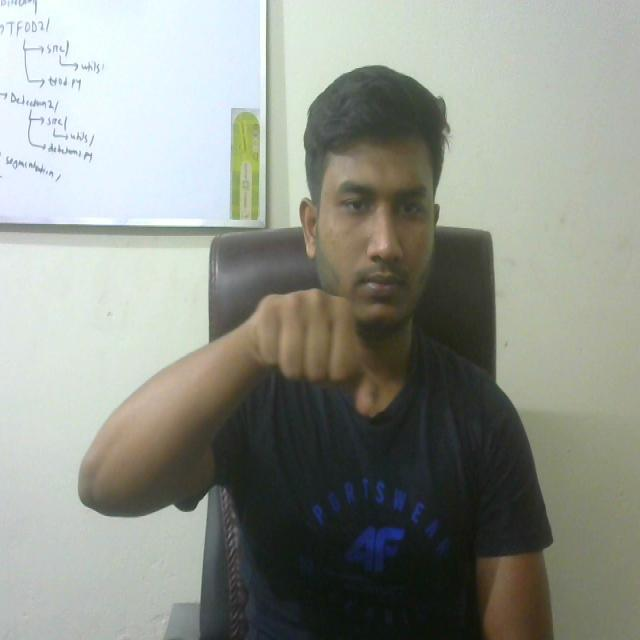Yes: (225, 267, 389, 434)
